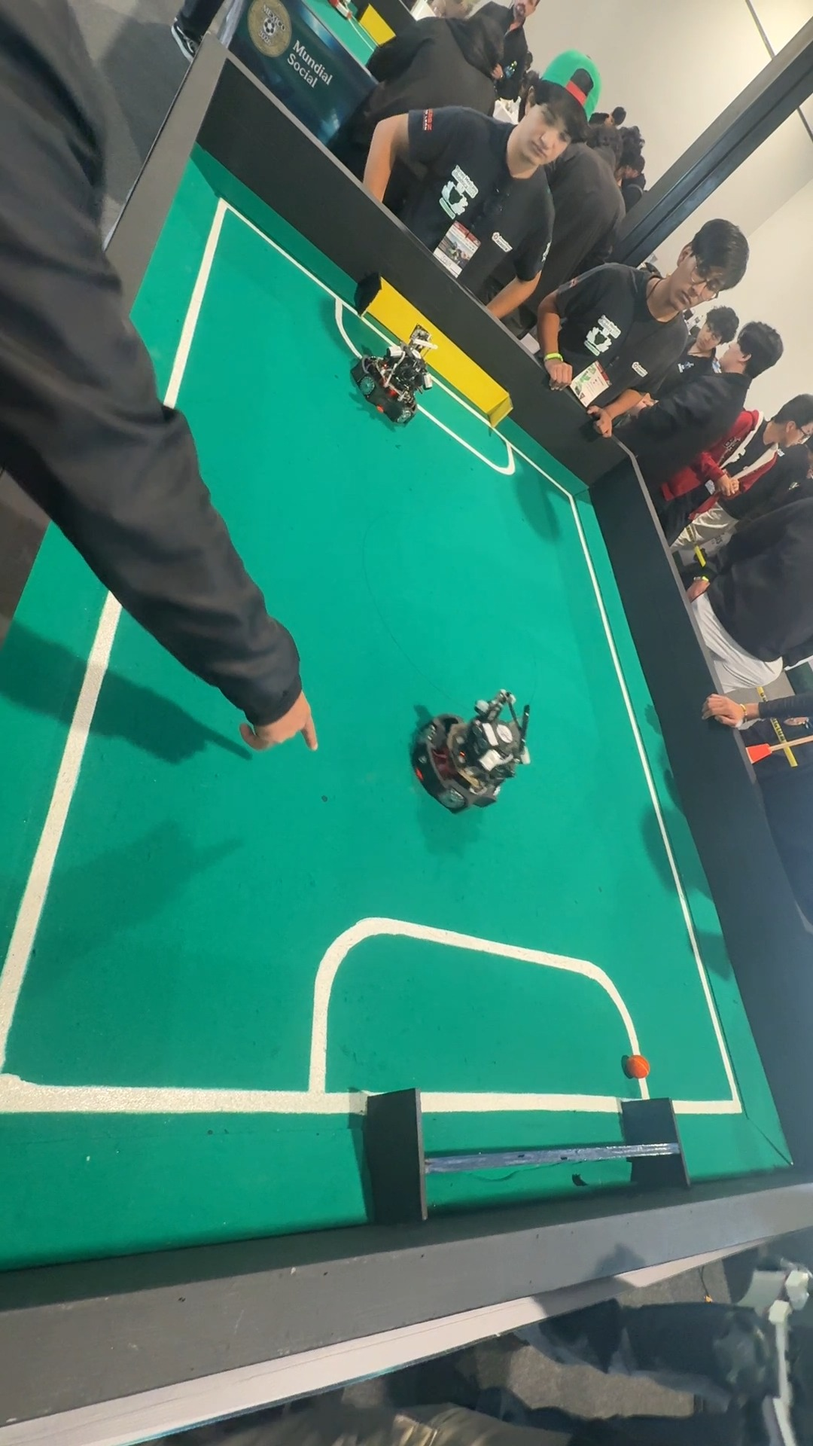Robot: (404, 676, 535, 825), (351, 311, 439, 433)
pelota: (625, 1050, 653, 1082)
